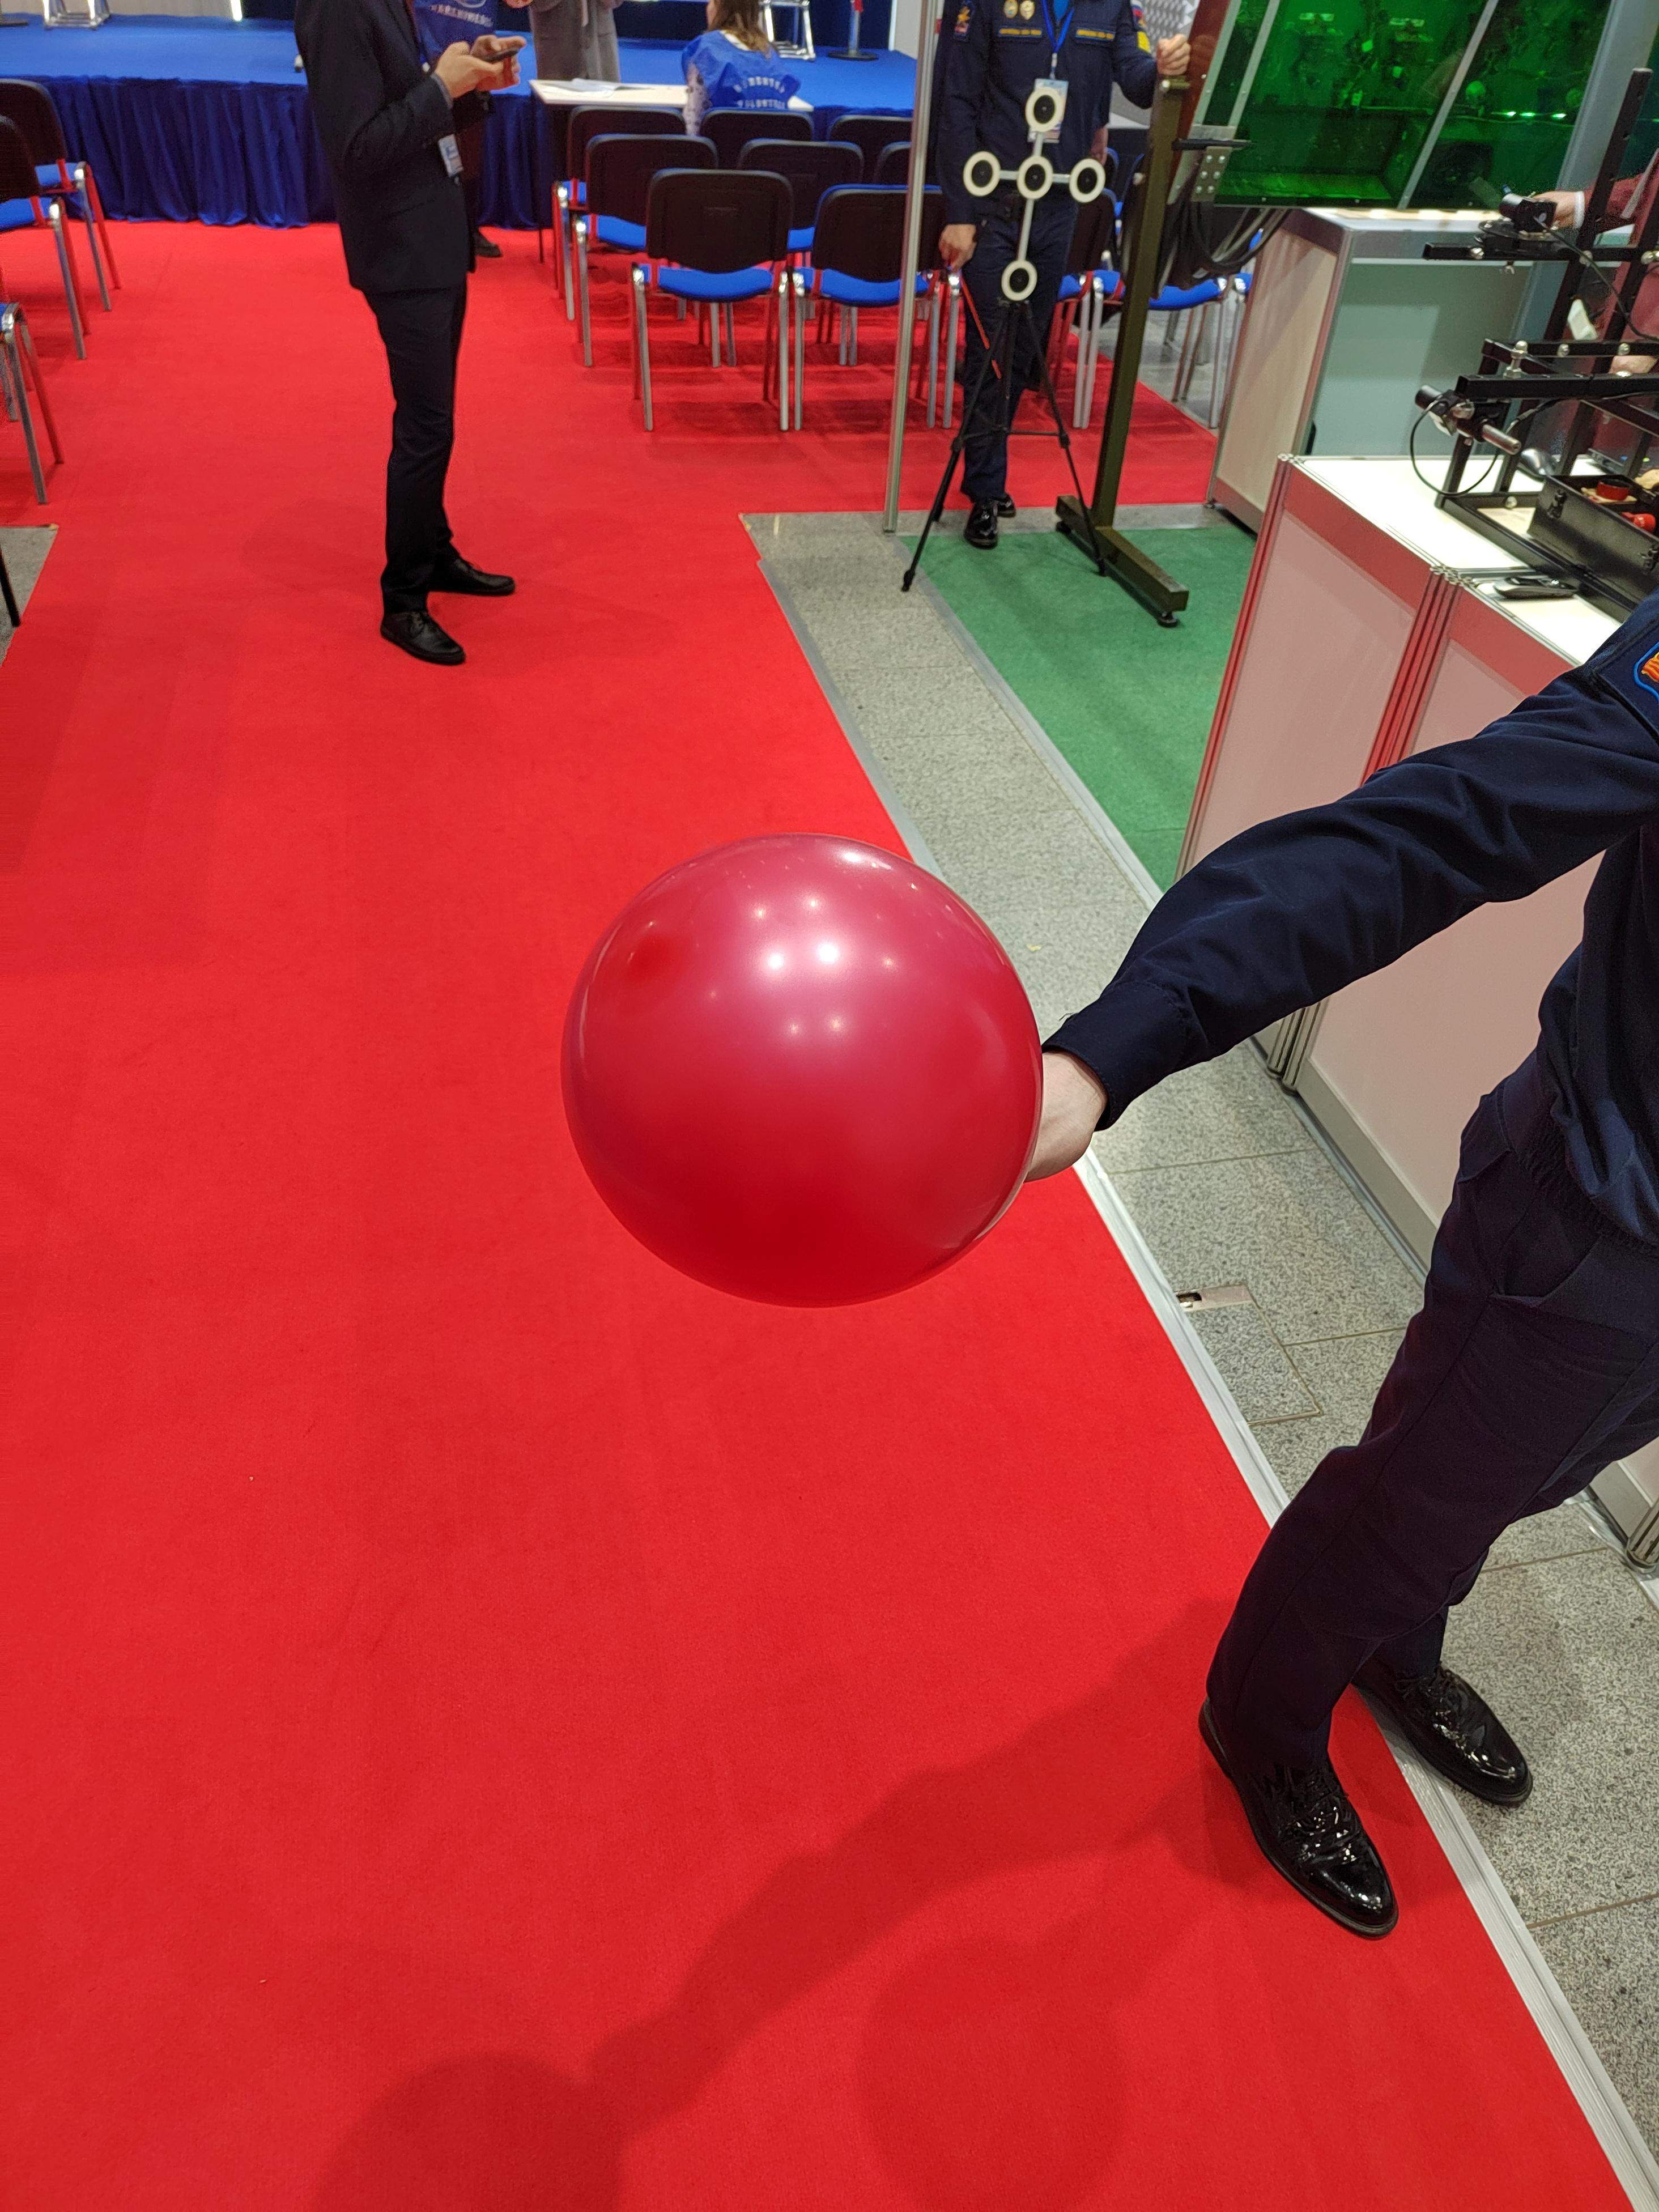red: (544, 811, 1053, 1319)
